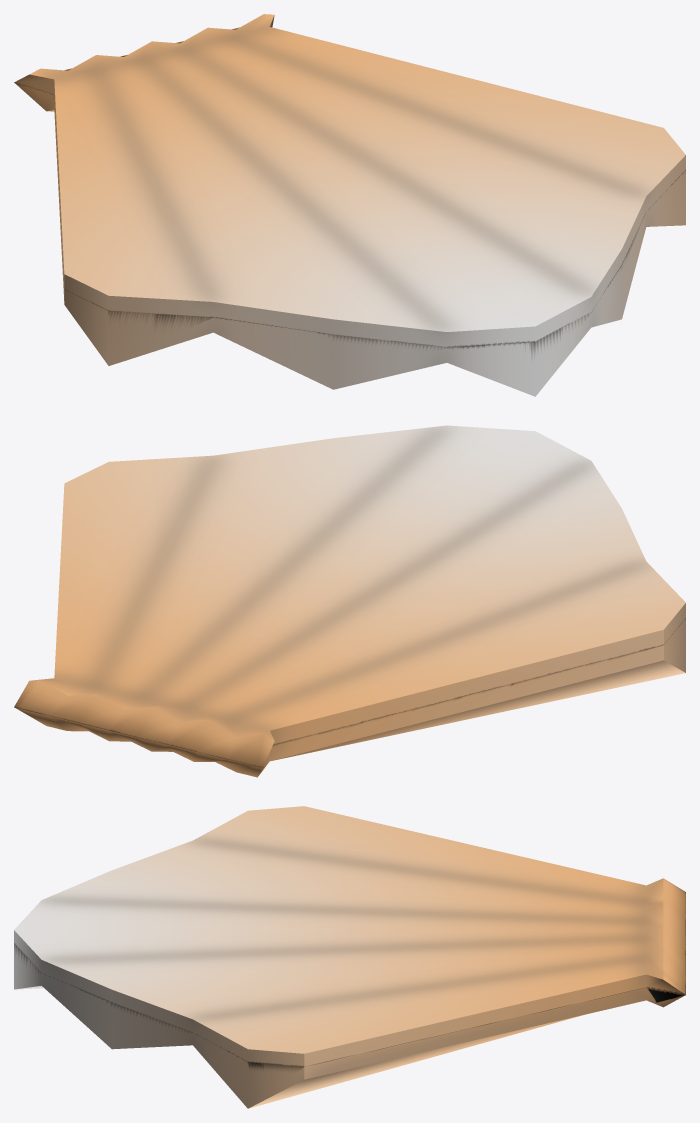
Rendered from shell.fbx.
The picture shows the model from 3 angles, top to bottom: view 1: azimuth 30°, elevation 25°; view 2: azimuth 150°, elevation 25°; view 3: azimuth 270°, elevation 25°; orthographic projection. The views are drawn at different scales.
Parts seen in each view (by area): view 1: pCube1; view 2: pCube1; view 3: pCube1.
Boxes of the visible parts, x1,y1,x2,y2 form: pCube1: (14,14,685,396); pCube1: (14,425,685,777); pCube1: (14,806,685,1108).
Bounding box in the file's own units: 14.6 × 1.74 × 16.74.
